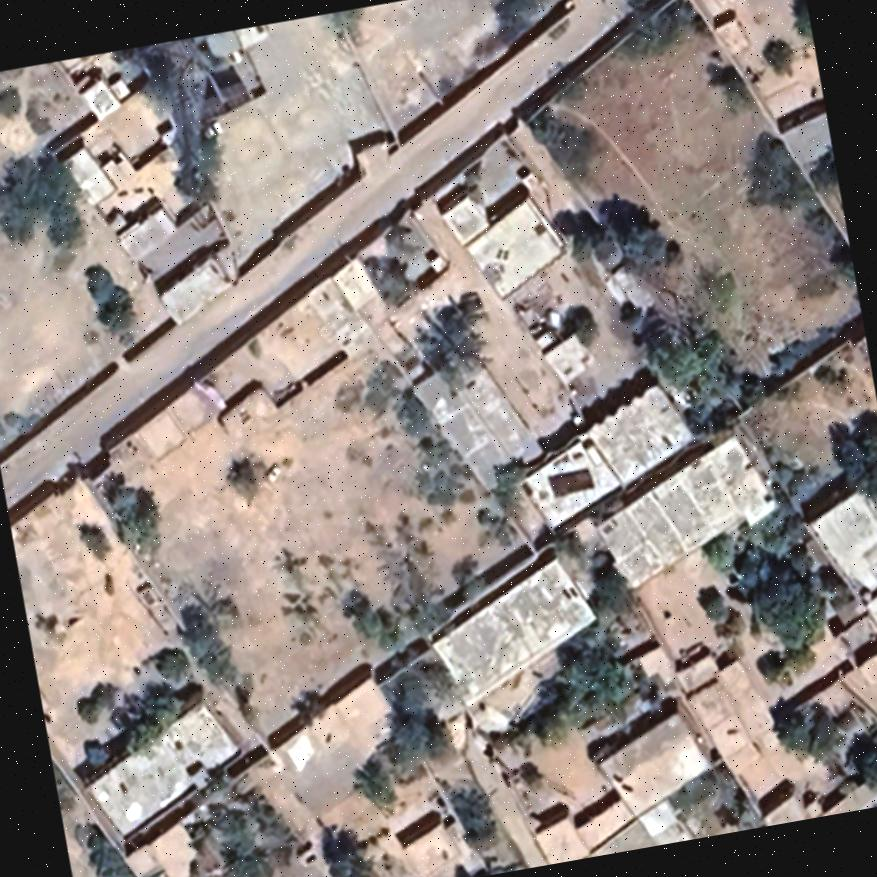Solarpanel: (541, 463, 596, 499)
